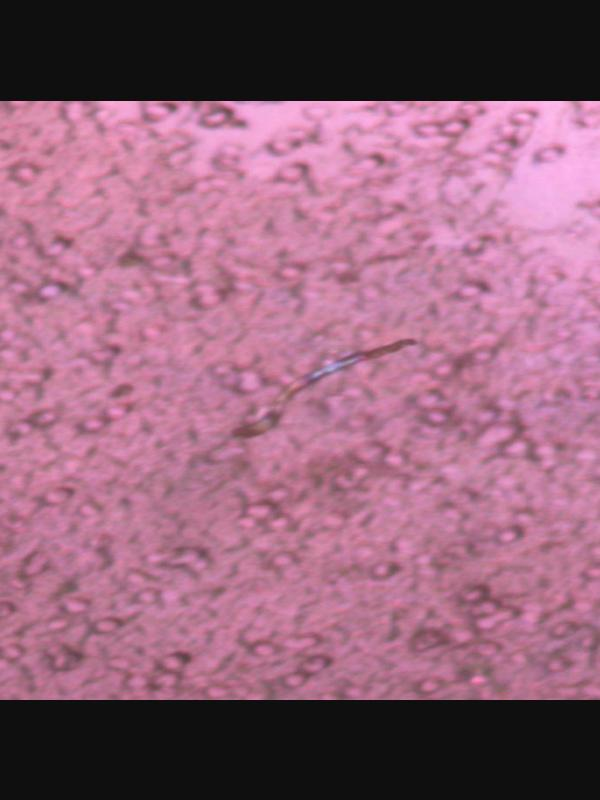microplastic: (0, 101, 600, 699), (227, 336, 420, 439)
